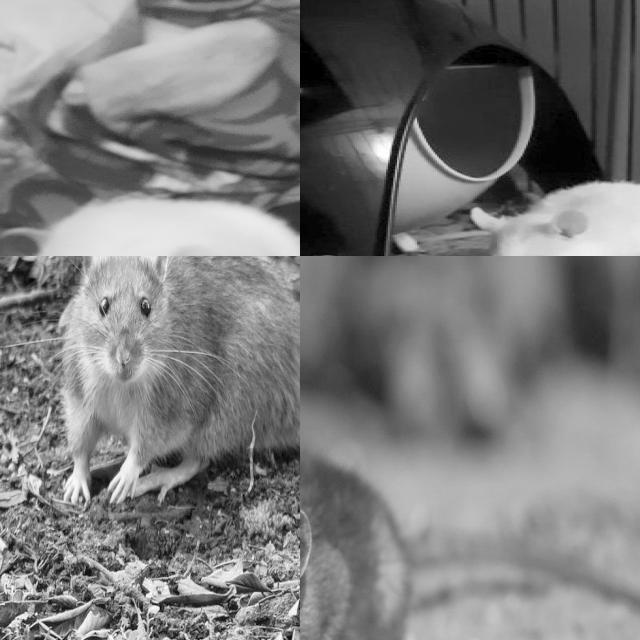rat: (54, 256, 300, 515), (300, 450, 411, 640), (17, 197, 300, 256), (465, 175, 640, 256)
